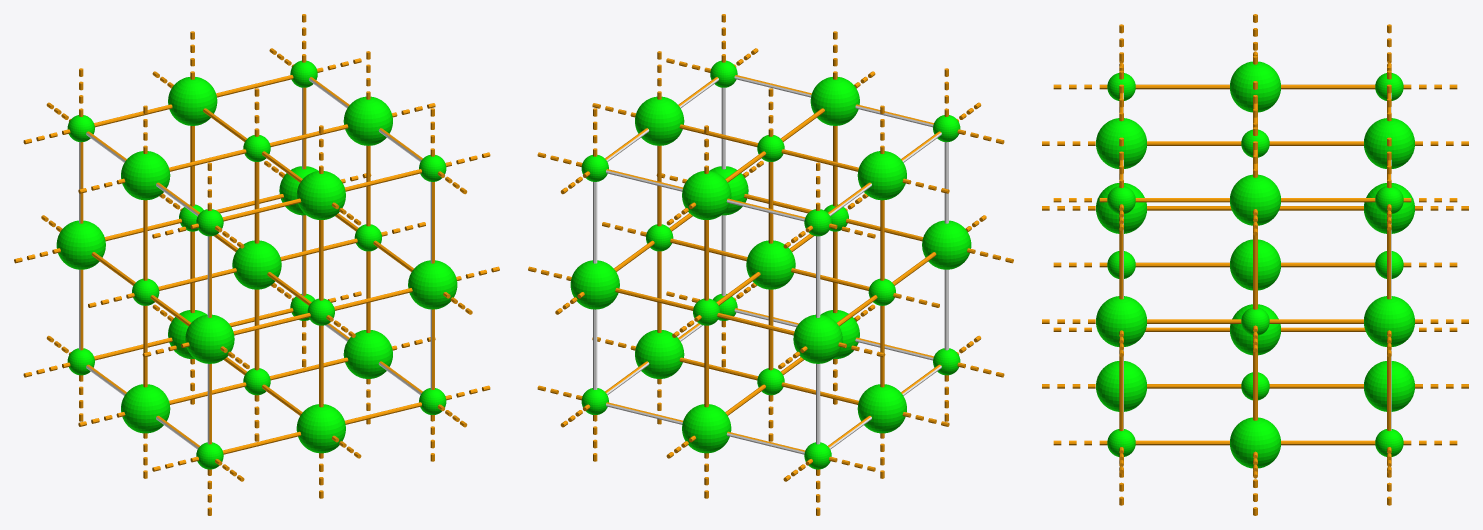
3 renders of one model, left to right at view 1: azimuth 30°, elevation 25°; view 2: azimuth 150°, elevation 25°; view 3: azimuth 270°, elevation 25°, orthographic. The views are drawn at different scales.
Parts seen in each view (by area): view 1: Atom.27, Atom.26, Atom.22, Atom.23, Atom.28, Atom.31, Atom.19, Atom.21, Atom.24, Atom.30, Atom.29, Atom.20 (+13 smaller); view 2: Atom.25, Atom.24, Atom.20, Atom.21, Atom.28, Atom.31, Atom.19, Atom.23, Atom.26, Atom.30, Atom.29, Bond.5 (+20 smaller); view 3: Atom.25, Atom.27, Atom.29, Atom.31, Atom.21, Atom.23, Atom.30, Atom.20, Atom.22, Atom.19, Atom.26, Atom.24 (+18 smaller).
Part boxes in pixels (x1,y1,x2,y2): Atom.27: [408, 260, 457, 309]; Atom.26: [185, 314, 234, 363]; Atom.22: [296, 404, 345, 453]; Atom.23: [296, 171, 345, 219]; Atom.28: [121, 384, 170, 433]; Atom.31: [343, 96, 392, 145]; Atom.19: [232, 240, 281, 289]; Atom.21: [168, 77, 217, 125]; Atom.24: [56, 220, 105, 269]; Atom.30: [121, 151, 170, 200]; Atom.29: [343, 330, 392, 378]; Atom.20: [168, 310, 206, 358]; Atom.25: [570, 260, 619, 309]; Atom.24: [793, 314, 842, 363]; Atom.20: [682, 404, 731, 453]; Atom.21: [682, 171, 731, 219]; Atom.28: [857, 384, 906, 433]; Atom.31: [635, 96, 684, 145]; Atom.19: [746, 240, 795, 289]; Atom.23: [810, 77, 859, 125]; Atom.26: [922, 220, 971, 269]; Atom.30: [857, 151, 906, 200]; Atom.29: [635, 330, 684, 378]; Bond.5: [816, 236, 820, 444]; Atom.25: [1364, 296, 1414, 346]; Atom.27: [1096, 296, 1146, 346]; Atom.29: [1230, 417, 1280, 468]; Atom.31: [1230, 174, 1280, 225]; Atom.21: [1364, 118, 1414, 168]; Atom.23: [1096, 118, 1146, 168]; Atom.30: [1230, 61, 1280, 112]; Atom.20: [1364, 361, 1414, 411]; Atom.22: [1096, 361, 1146, 411]; Atom.19: [1230, 239, 1280, 290]; Atom.26: [1096, 183, 1146, 233]; Atom.24: [1364, 183, 1414, 233].
Bounding box in the file's own units: 8.95 × 8.95 × 8.95.
